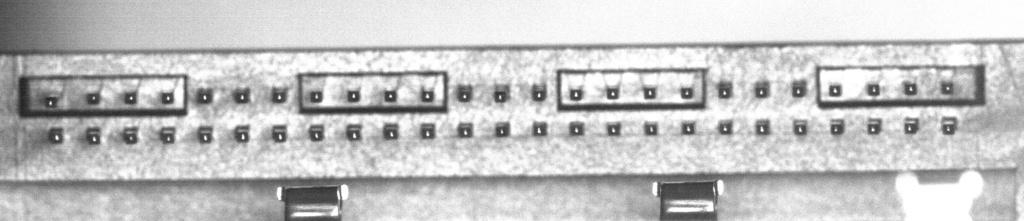pin_ok: (233, 86, 251, 103), (159, 126, 176, 144), (234, 124, 251, 142), (271, 86, 288, 103), (941, 116, 957, 134), (271, 124, 287, 142), (456, 84, 472, 101), (85, 127, 101, 144), (791, 80, 807, 97), (717, 81, 733, 98), (196, 87, 213, 103), (308, 124, 324, 141), (197, 126, 213, 143), (383, 123, 399, 140), (123, 127, 139, 144), (47, 127, 64, 143), (531, 83, 546, 101), (346, 123, 361, 141), (569, 120, 585, 136), (754, 82, 770, 98), (420, 123, 436, 139), (493, 86, 509, 102), (904, 117, 919, 134), (830, 118, 845, 135), (867, 117, 882, 134), (755, 118, 770, 135), (793, 119, 808, 135), (457, 123, 473, 138), (718, 119, 733, 135), (495, 122, 510, 137), (532, 121, 547, 136), (681, 120, 696, 135), (606, 122, 622, 136), (160, 90, 175, 104), (828, 83, 843, 97), (568, 87, 583, 101), (346, 88, 360, 102), (383, 88, 397, 102), (680, 85, 694, 99), (86, 91, 100, 105), (421, 88, 435, 102), (644, 121, 658, 135), (605, 85, 619, 99), (903, 81, 917, 95), (866, 83, 881, 96), (642, 86, 657, 99), (309, 90, 323, 103), (941, 81, 954, 95), (44, 95, 58, 108), (124, 91, 137, 104)
